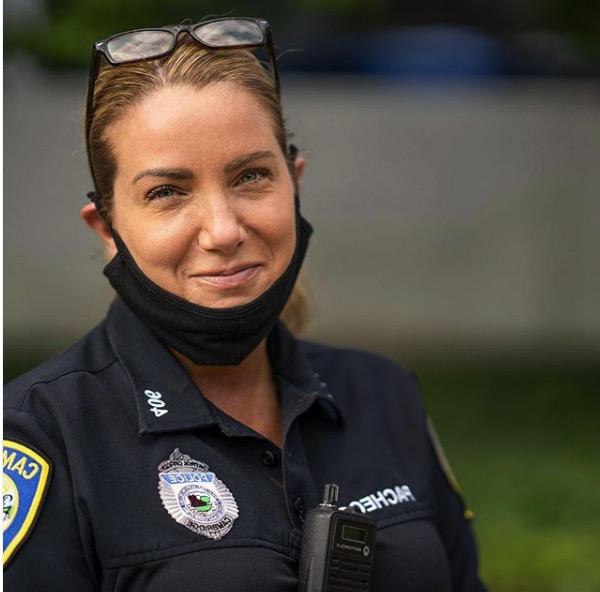mask_weared_incorrect: (120, 129, 277, 348)
